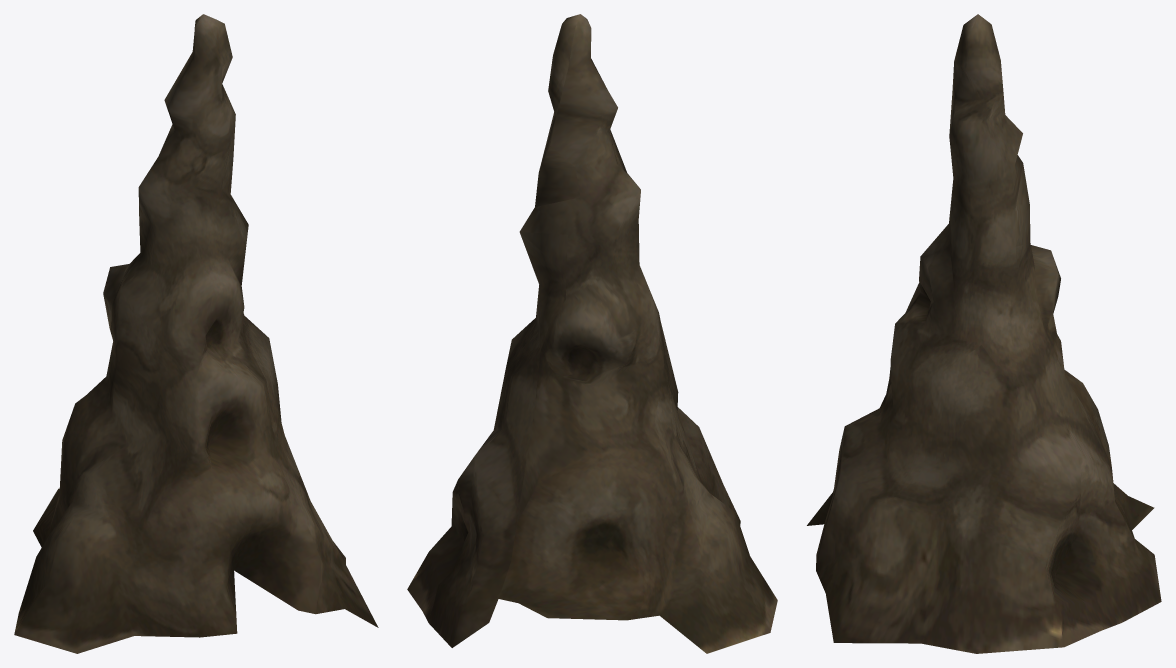
File: nashgar_object_ant_tunnel_01.FBX
The picture shows the model from 3 angles, left to right: view 1: azimuth 30°, elevation 25°; view 2: azimuth 150°, elevation 25°; view 3: azimuth 270°, elevation 25°; orthographic projection.
Visible parts, largest first — view 1: nashgar_object_ant_tunnel_01; view 2: nashgar_object_ant_tunnel_01; view 3: nashgar_object_ant_tunnel_01.
Boxes of the visible parts, x1=… form: nashgar_object_ant_tunnel_01: x1=14, y1=14, x2=378, y2=653; nashgar_object_ant_tunnel_01: x1=407, y1=14, x2=777, y2=653; nashgar_object_ant_tunnel_01: x1=807, y1=14, x2=1161, y2=653.
Bounding box in the file's own units: 3.48 × 5.88 × 3.27.
